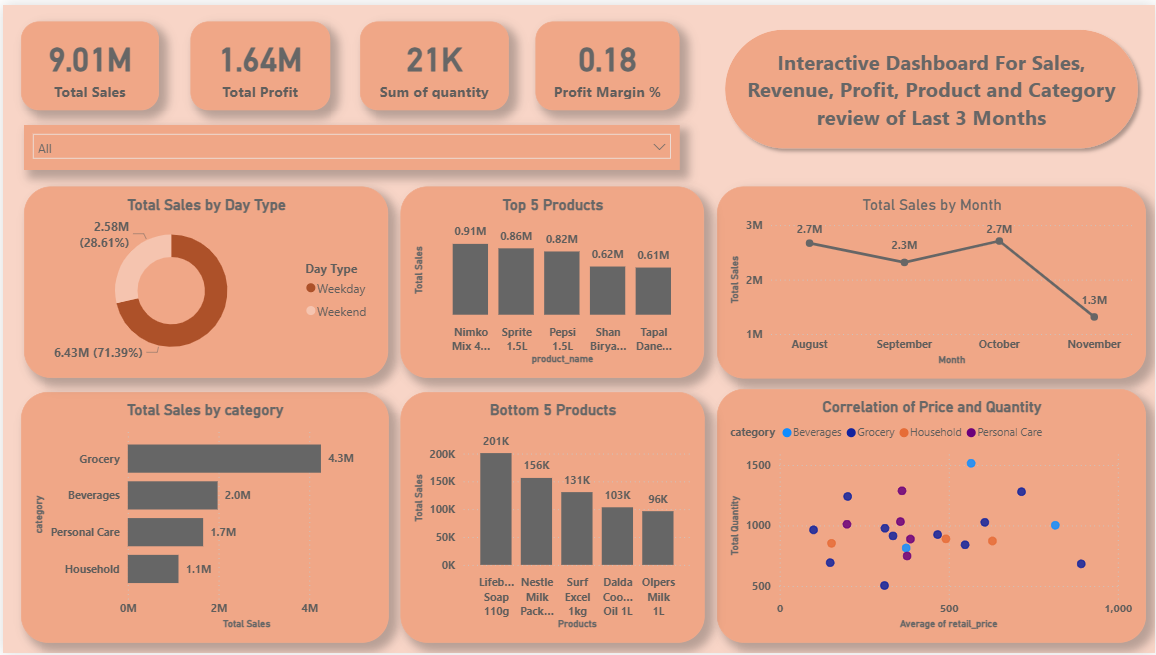

What the dashboard file says about the page in this screenshot:
{"tool":"powerbi","page":{"name":"Overview","canvas":[1280,720],"ordinal":0},"visuals":[{"type":"card","fields":{"Values":["customers_cleaned.Total Sales"]},"box":[20,18.3,153.3,98.3],"z":0},{"type":"card","fields":{"Values":["sales_cleaned_4.Total Profit"]},"box":[208.3,18.3,155,98.3],"z":1000},{"type":"card","fields":{"Values":["Sum(sales_cleaned_4.quantity)"]},"box":[396.7,18.3,165,98.3],"z":2000},{"type":"card","fields":{"Values":["sales_cleaned_4.Profit Margin %"]},"box":[591.7,18.3,160,98.3],"z":3000},{"type":"lineChart","fields":{"Category":["sales_cleaned_4.date.Variation.Date Hierarchy.Month"],"Y":["customers_cleaned.Total Sales"]},"box":[793.3,201.7,476.7,213.3],"z":4000},{"type":"clusteredBarChart","fields":{"Y":["customers_cleaned.Total Sales"],"Category":["products_cleaned_2.category","products_cleaned_2.product_name"]},"box":[20,430,408.3,278.3],"z":5000},{"type":"donutChart","fields":{"Category":["sales_cleaned_4.Day Type"],"Y":["customers_cleaned.Total Sales"]},"box":[24,201.6,404.8,212.8],"z":6000},{"type":"scatterChart","title":"Correlation of Price and Quantity","fields":{"Y":["sales_cleaned_4.Total Quantity"],"Category":["products_cleaned_2.product_name"],"Series":["products_cleaned_2.category"],"X":["products_cleaned_2.retail_price"]},"box":[793.3,426.7,476.7,281.7],"z":8000},{"type":"clusteredColumnChart","title":"Top 5 Products","fields":{"Category":["products_cleaned_2.product_name"],"Y":["customers_cleaned.Total Sales"]},"box":[441.6,201.6,337.6,212.8],"z":9000},{"type":"clusteredColumnChart","title":"Bottom 5 Products","fields":{"Category":["products_cleaned_2.product_name"],"Y":["customers_cleaned.Total Sales"]},"box":[441.6,430.1,337.9,278.4],"z":10000},{"type":"slicer","fields":{"Values":["sales_cleaned_4.date.Variation.Date Hierarchy.Month"]},"box":[23.3,133.3,728.3,50],"z":11000},{"type":"shape","box":[793.3,18.3,476.7,150],"z":12000}]}

Visuals, with their boxes in screenshot pixels (x1, y1, x2, y2), scaled from the page's 1280x720 canvas onto the 1156x655 screenshot:
card - customers_cleaned.Total Sales: detection(18, 17, 157, 106)
card - sales_cleaned_4.Total Profit: detection(188, 17, 328, 106)
card - Sum(sales_cleaned_4.quantity): detection(358, 17, 507, 106)
card - sales_cleaned_4.Profit Margin %: detection(534, 17, 679, 106)
lineChart - sales_cleaned_4.date.Variation.Date Hierarchy.Month x customers_cleaned.Total Sales: detection(716, 183, 1147, 378)
clusteredBarChart - customers_cleaned.Total Sales x products_cleaned_2.category: detection(18, 391, 387, 644)
donutChart - sales_cleaned_4.Day Type x customers_cleaned.Total Sales: detection(22, 183, 387, 377)
"Correlation of Price and Quantity" scatterChart: detection(716, 388, 1147, 644)
"Top 5 Products" clusteredColumnChart: detection(399, 183, 704, 377)
"Bottom 5 Products" clusteredColumnChart: detection(399, 391, 704, 645)
slicer - sales_cleaned_4.date.Variation.Date Hierarchy.Month: detection(21, 121, 679, 167)
shape: detection(716, 17, 1147, 153)
